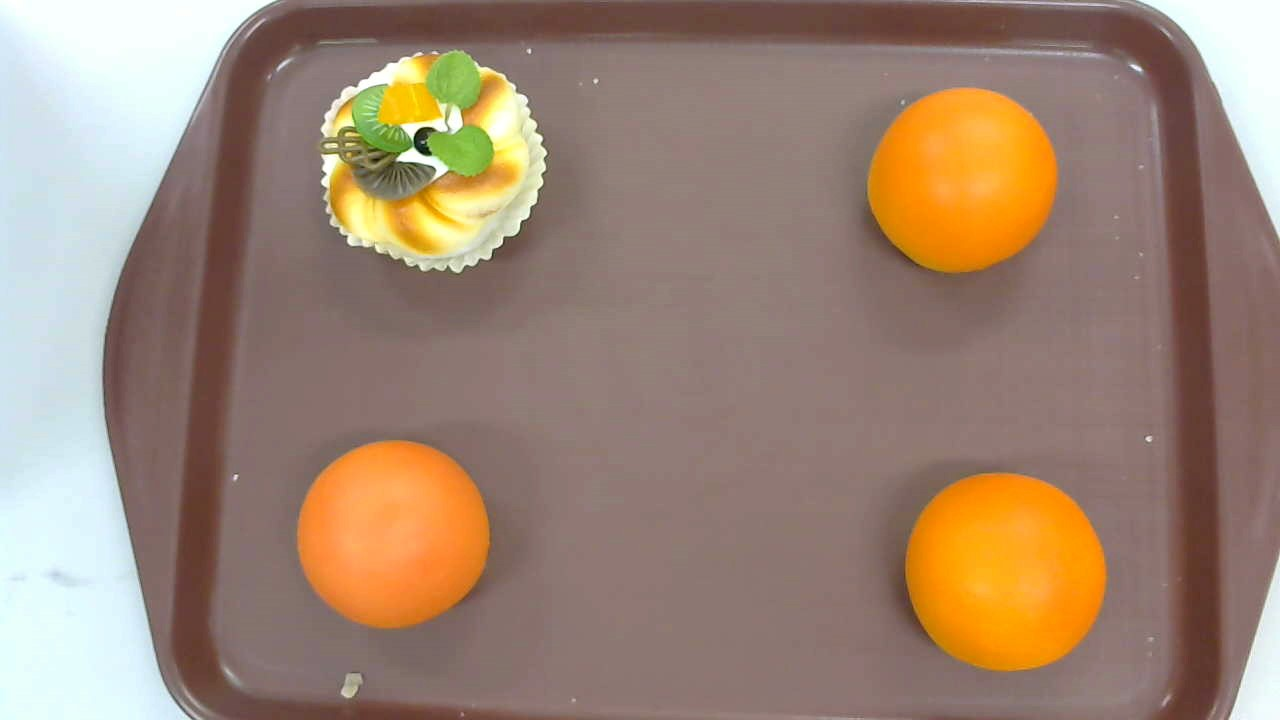bun: (903, 472, 1107, 671), (297, 439, 490, 629), (868, 85, 1059, 273)
fruit tart: (318, 48, 548, 274)
